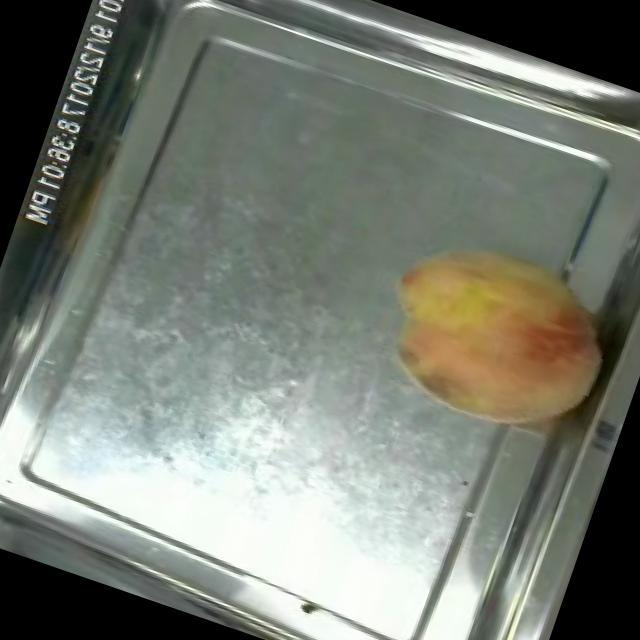Fruit: (352, 208, 636, 464)
